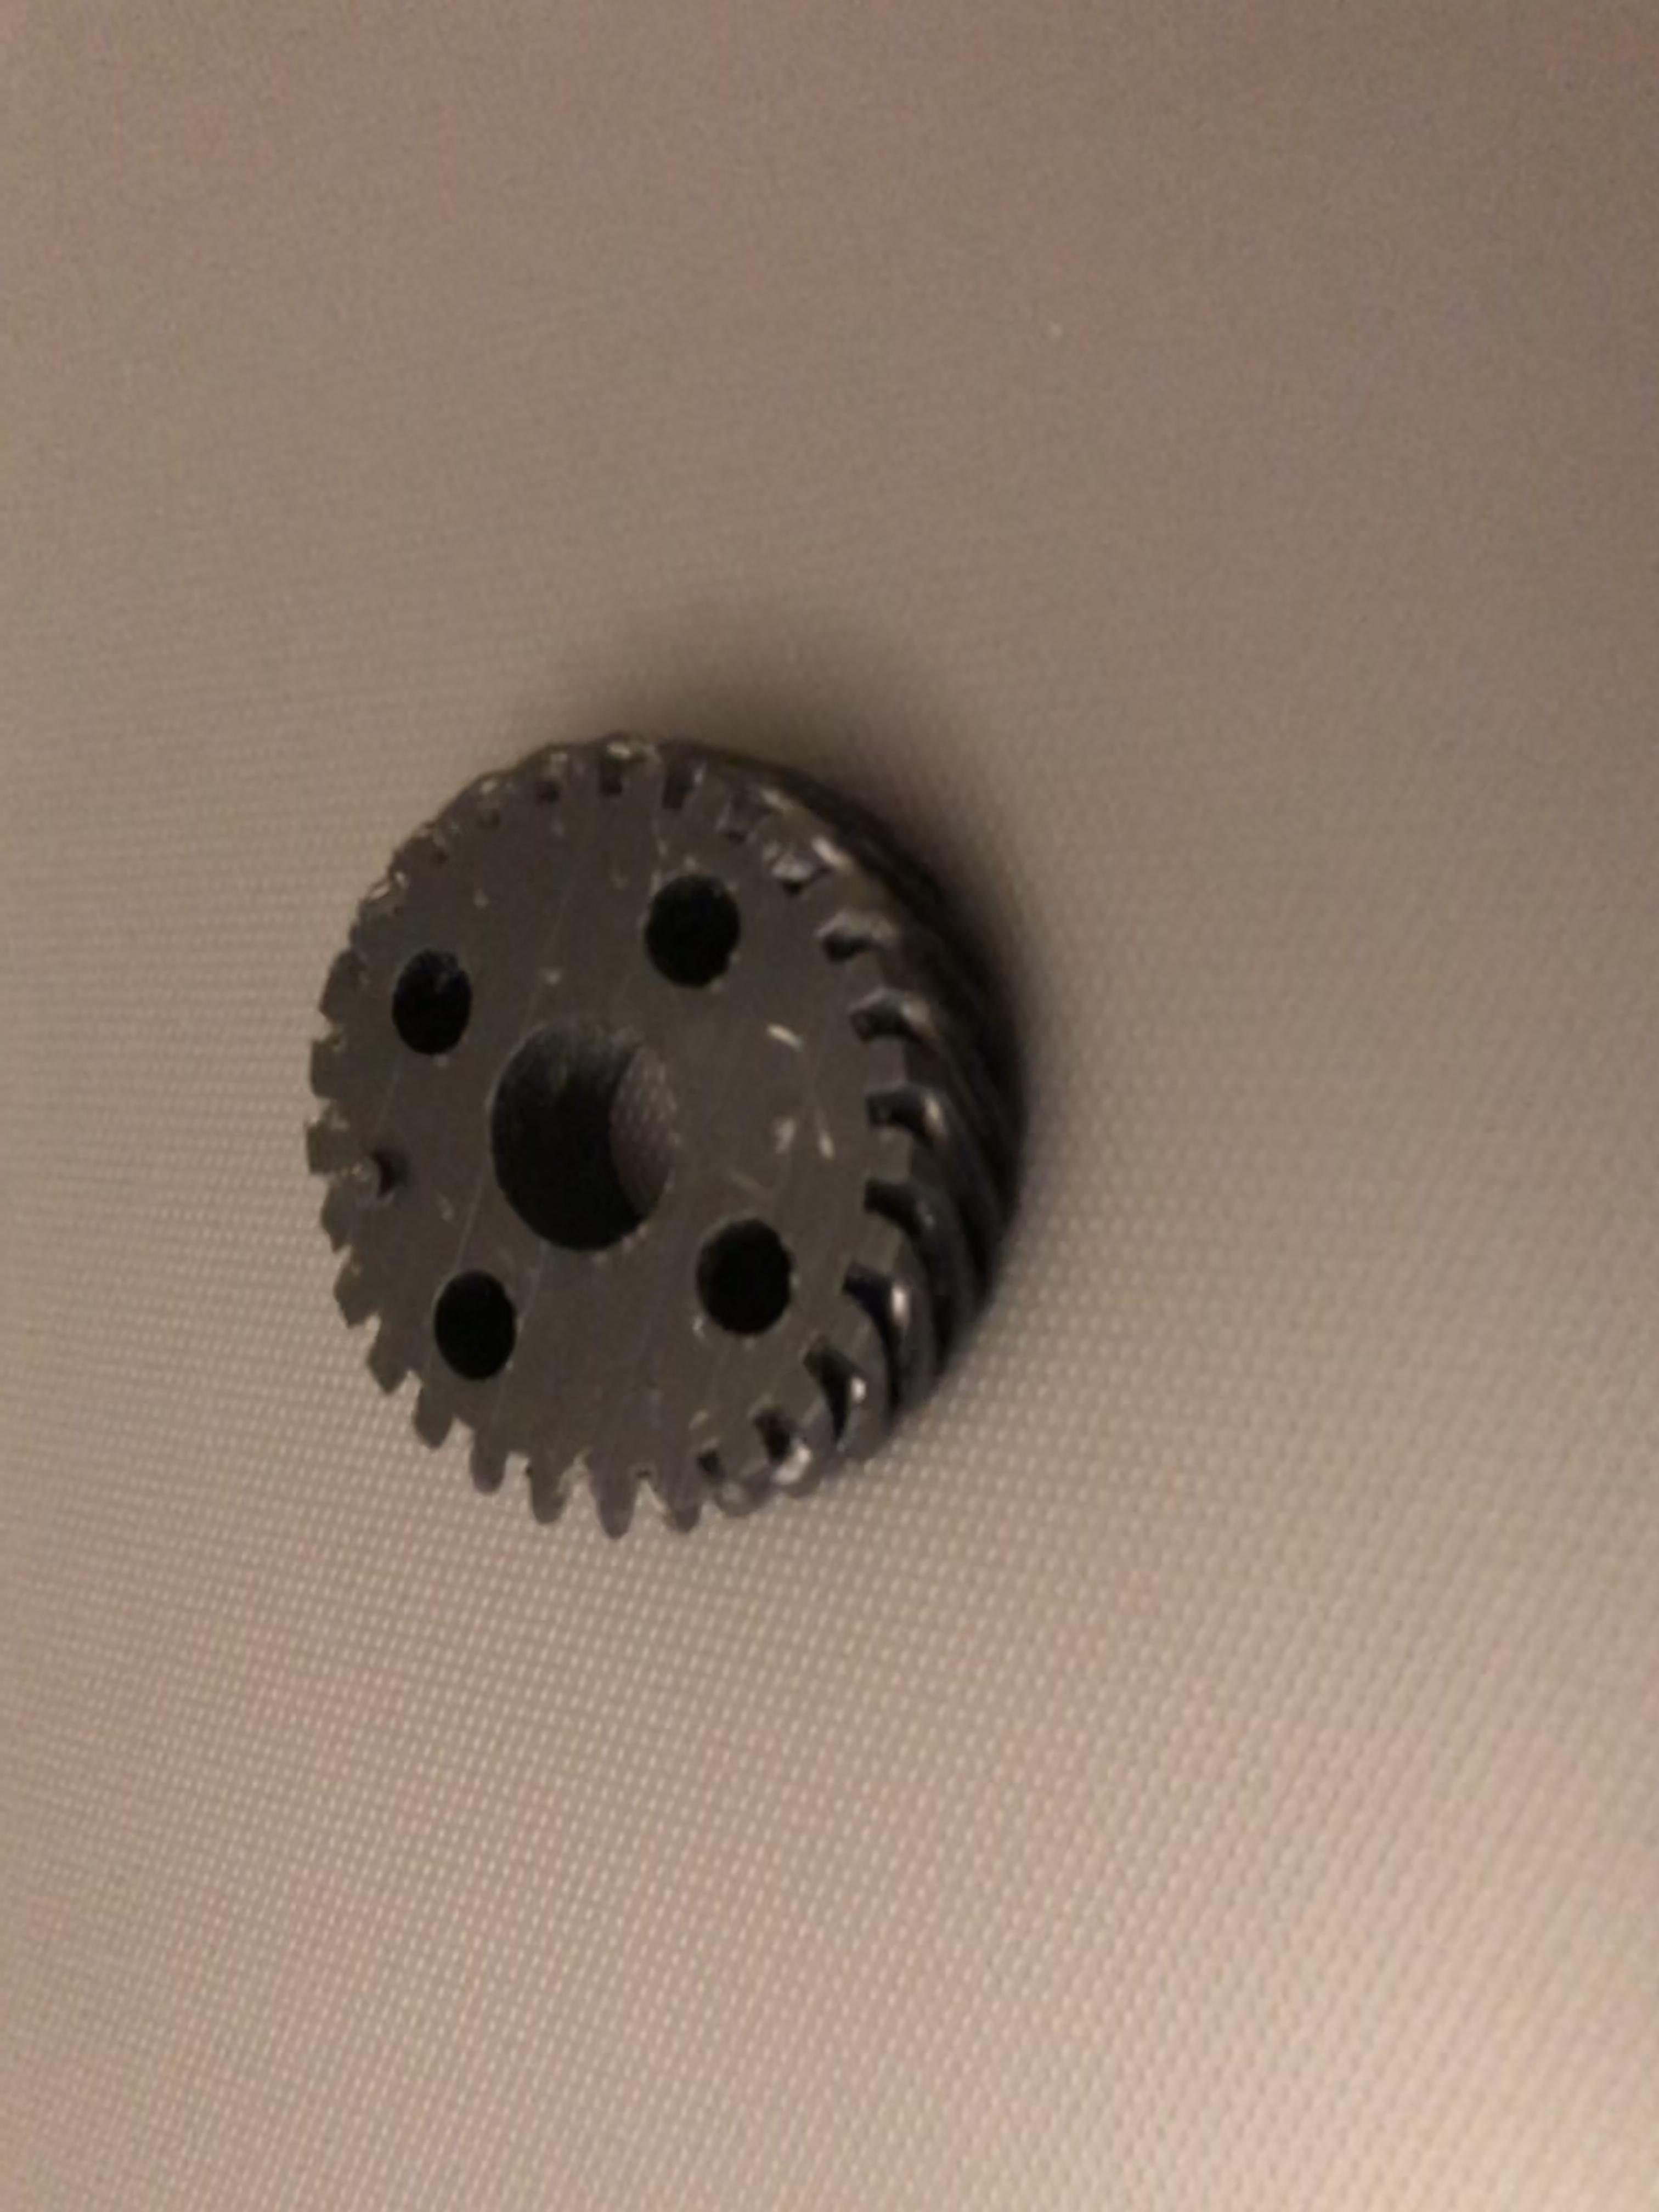Wheel: (261, 730, 1051, 1529)
